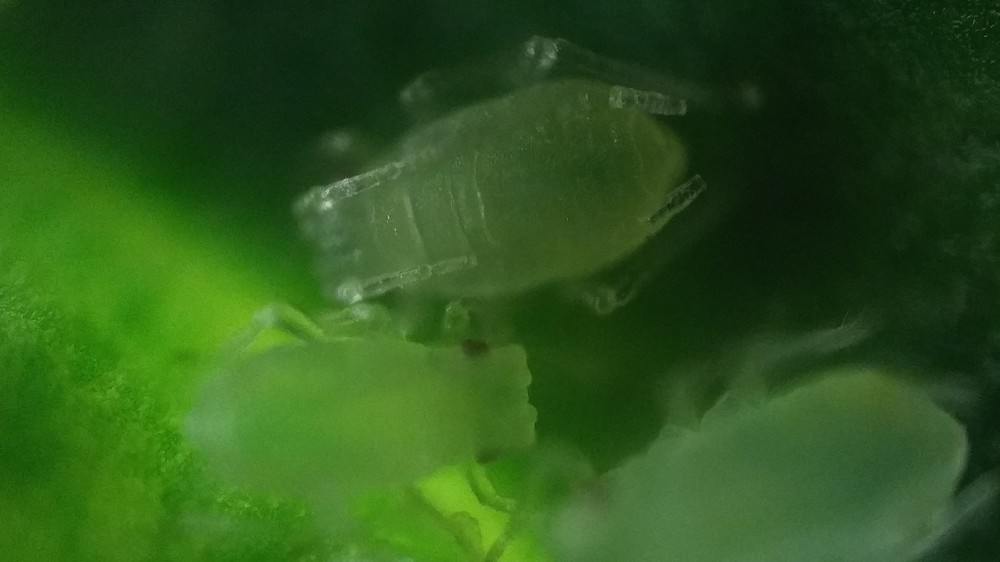Pulgon: (256, 17, 719, 335), (171, 289, 582, 527)
